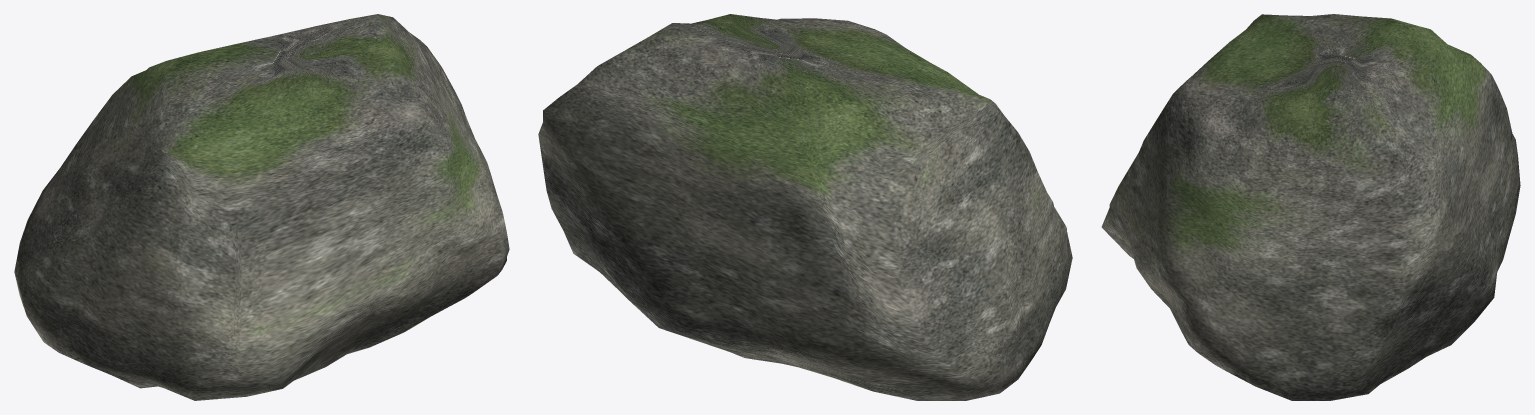
File: Boulder001_A_LOD2.gltf
3 views of the same model, side by side, from view 1: azimuth 30°, elevation 25°; view 2: azimuth 150°, elevation 25°; view 3: azimuth 270°, elevation 25° (orthographic). The views are drawn at different scales.
Visible parts, largest first — view 1: Boulder001_A_LOD2; view 2: Boulder001_A_LOD2; view 3: Boulder001_A_LOD2.
Boxes of the visible parts, x1,y1,x2,y2 form: Boulder001_A_LOD2: (14,14,509,400); Boulder001_A_LOD2: (538,14,1072,400); Boulder001_A_LOD2: (1101,14,1520,400).
Size of the model in its own units: 5.5 by 3.45 by 4.31.
Materials: 1 (1 with a texture image).
